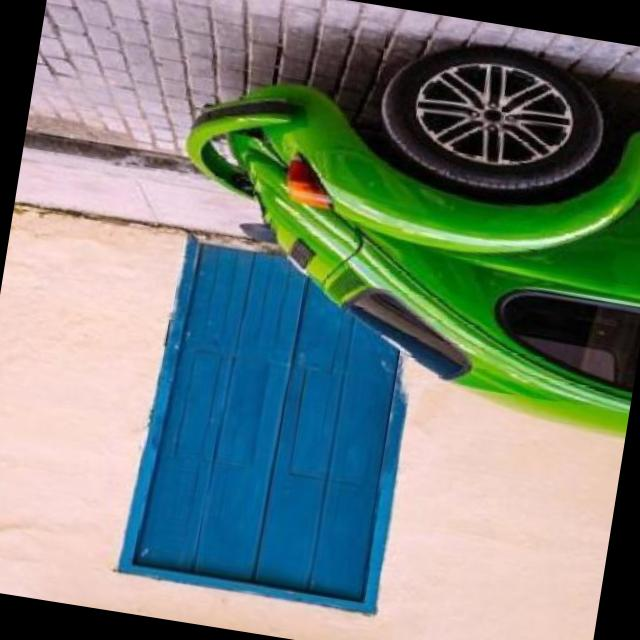car: (151, 31, 640, 429)
